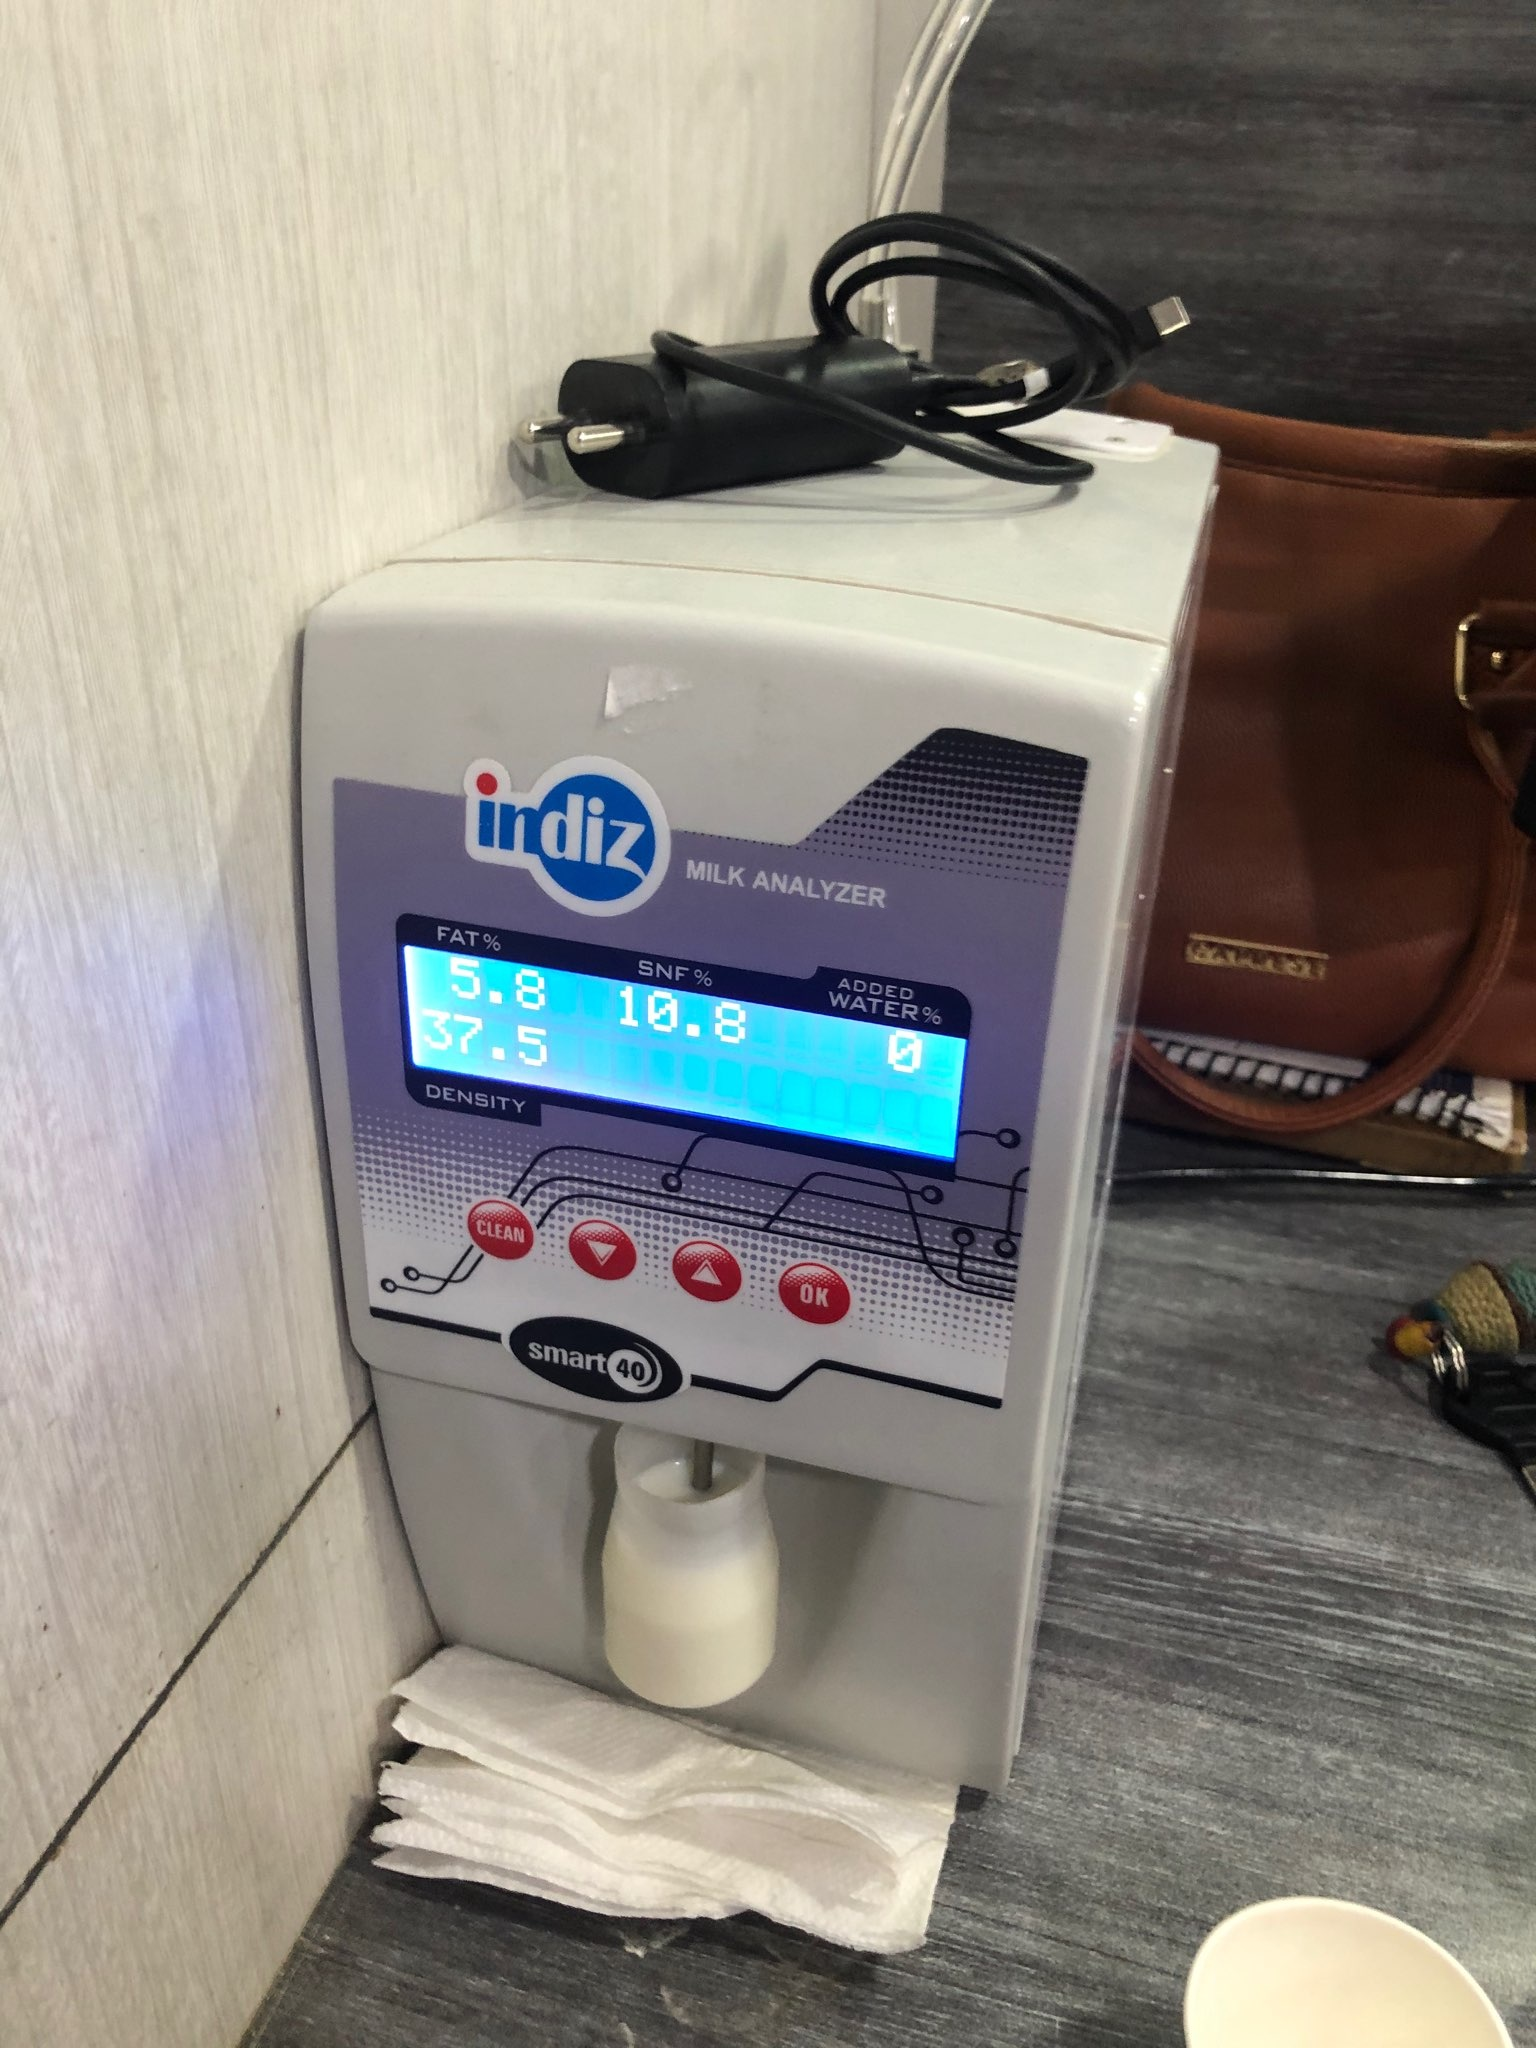lcd: (390, 868, 1004, 1285)
